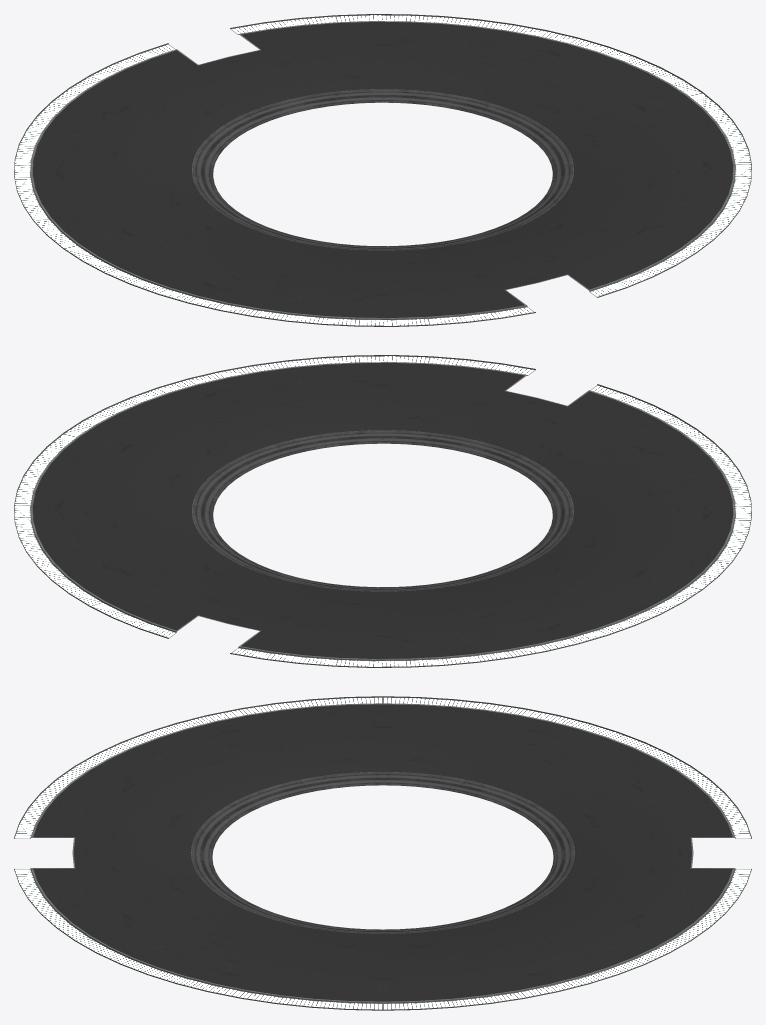
Rendered from CentralArea_GroundTop.fbx.
3 views of the same model, one above another, from view 1: azimuth 30°, elevation 25°; view 2: azimuth 150°, elevation 25°; view 3: azimuth 270°, elevation 25° (orthographic).
Parts seen in each view (by area): view 1: CentralArea_GroundTop; view 2: CentralArea_GroundTop; view 3: CentralArea_GroundTop.
Part boxes in pixels (bbox=[...]): CentralArea_GroundTop: bbox=[14, 14, 751, 326]; CentralArea_GroundTop: bbox=[14, 355, 751, 667]; CentralArea_GroundTop: bbox=[14, 696, 751, 1010].
Bounding box in the file's own units: 34.82 × 0.234 × 34.65.
